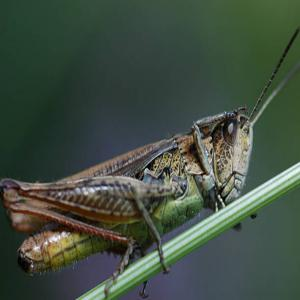locust: (12, 95, 275, 270)
